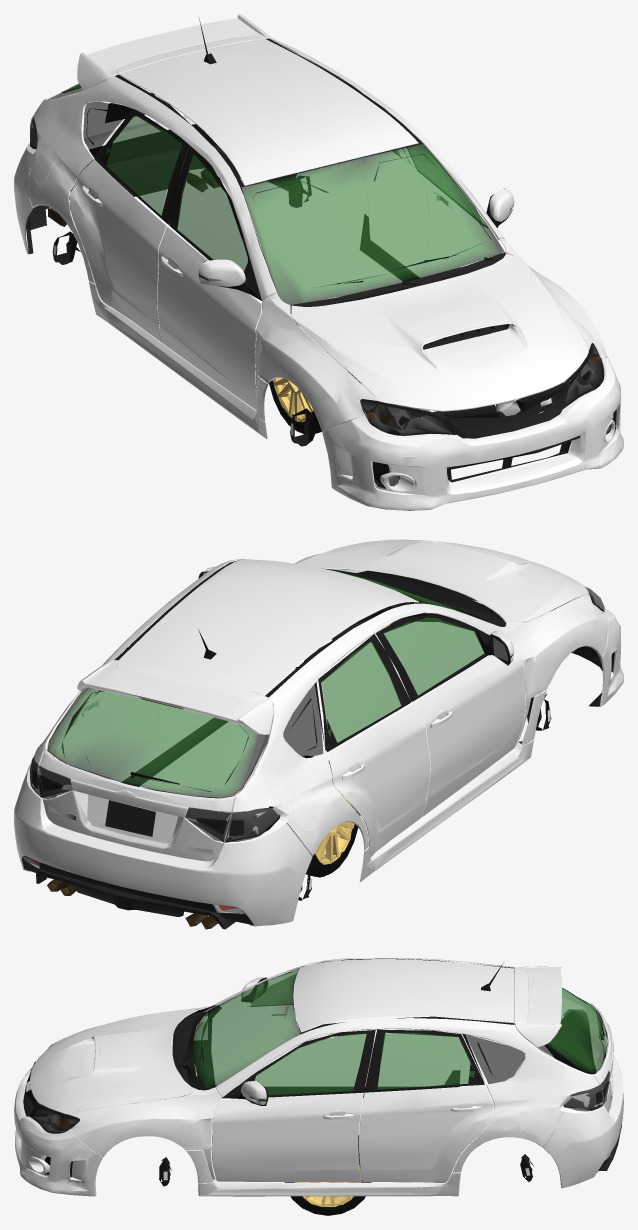
Rendered from impreza_1.glb.
3 renders of one model, top to bottom at view 1: azimuth 30°, elevation 25°; view 2: azimuth 150°, elevation 25°; view 3: azimuth 270°, elevation 25°, orthographic. The views are drawn at different scales.
Visible parts, largest first — view 1: paint, glass, misc, wheel_R; view 2: paint, glass, misc, wheel_R; view 3: paint, glass, misc, wheel_L.
Boxes of the visible parts, box(x1,y1,x2,y2) form: paint: box(14, 14, 623, 510); glass: box(30, 83, 611, 486); misc: box(26, 19, 616, 488); wheel_R: box(269, 319, 359, 434); paint: box(14, 539, 623, 926); glass: box(29, 568, 604, 913); misc: box(22, 560, 614, 929); wheel_R: box(266, 755, 360, 876); paint: box(14, 958, 623, 1196); glass: box(30, 968, 609, 1133); misc: box(23, 958, 621, 1186); wheel_L: box(285, 1141, 371, 1215).
Size of the model in its own units: 1.99 by 2 by 4.43.
